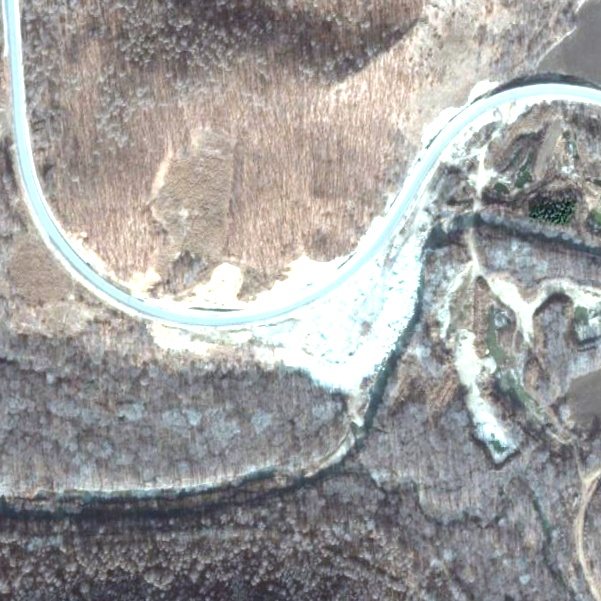slope: (143, 184, 457, 428), (441, 93, 600, 203), (154, 249, 348, 315), (480, 269, 600, 349), (452, 326, 518, 461), (64, 230, 163, 300), (416, 75, 502, 149)
